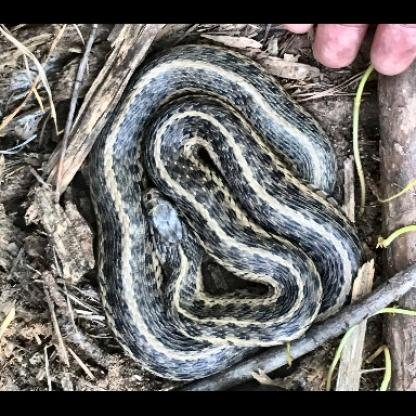Snake: (85, 47, 416, 372)
